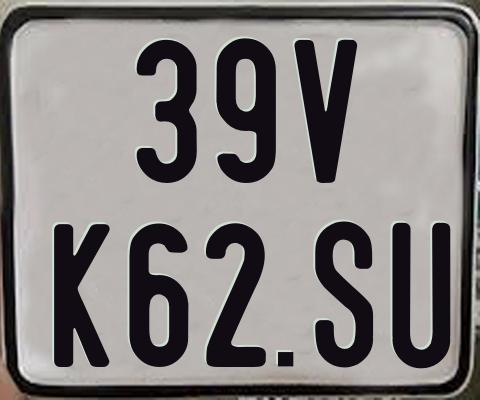2: (203, 222, 268, 367)
3: (134, 38, 199, 187)
6: (126, 223, 192, 368)
9: (215, 38, 281, 189)
K: (54, 221, 113, 367)
S: (314, 221, 373, 371)
U: (389, 223, 448, 370)
V: (294, 38, 363, 186)
